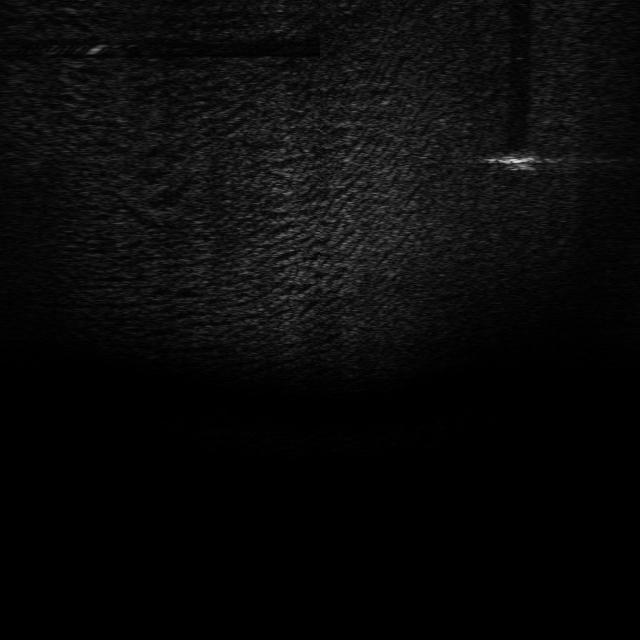cube: (498, 147, 540, 172)
